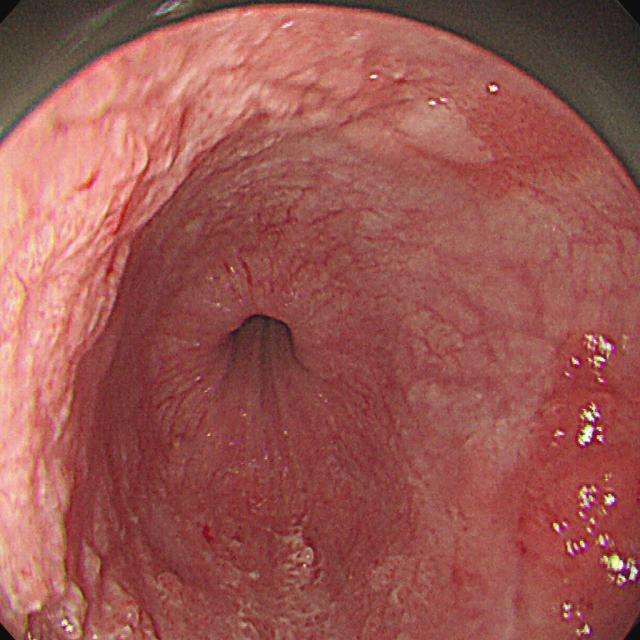A: (2, 30, 356, 246), (2, 243, 149, 640), (224, 509, 330, 640)
I: (190, 289, 333, 422)
U: (553, 471, 616, 556), (566, 331, 616, 389), (575, 398, 607, 452), (598, 551, 640, 591), (561, 600, 592, 640), (550, 426, 566, 447)
